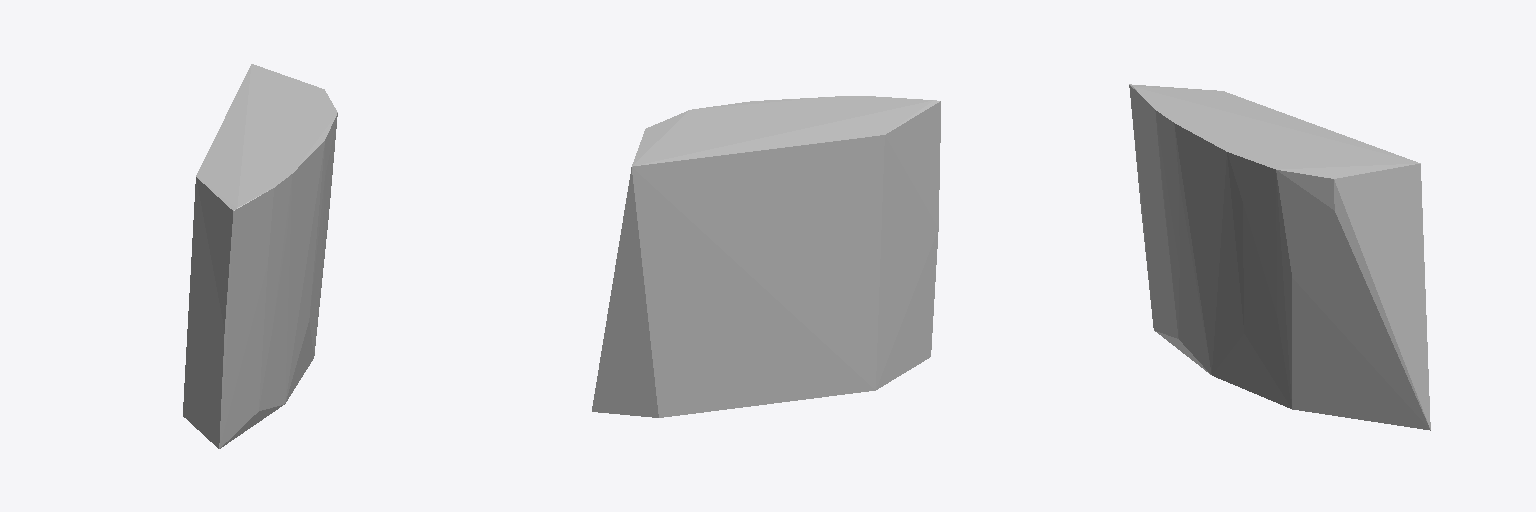
The model's file is trash_bin_collision_6.obj.
The picture shows the model from 3 angles: view 1: azimuth 30°, elevation 25°; view 2: azimuth 150°, elevation 25°; view 3: azimuth 270°, elevation 25°; orthographic projection.
Size of the model in its own units: 0.0484 by 0.0574 by 0.0625.